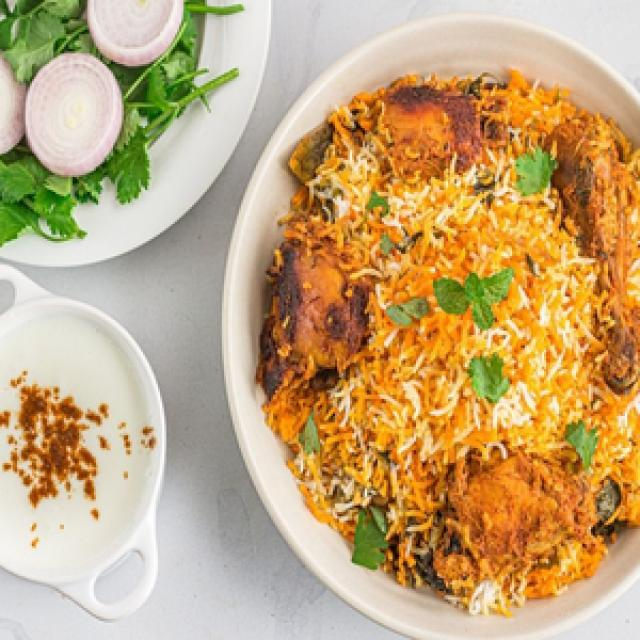chicken biriyani: (245, 58, 640, 629)
